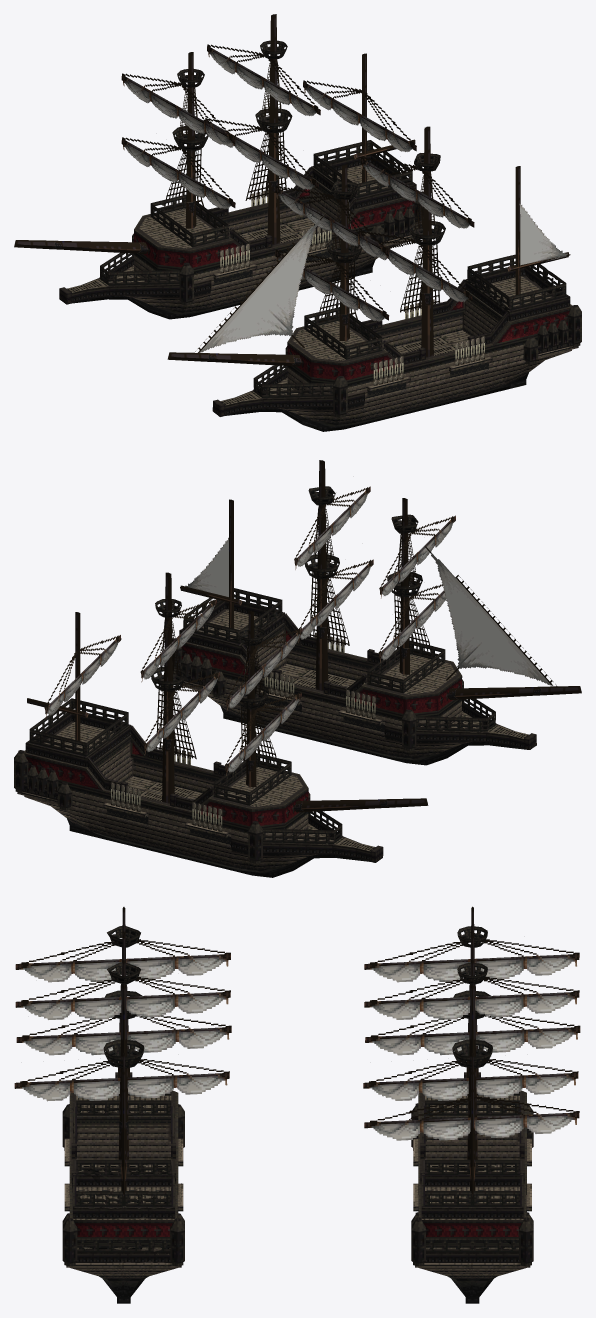
The model's file is ObjMD_Ship_A_01.FBX.
3 renders of one model, top to bottom at view 1: azimuth 30°, elevation 25°; view 2: azimuth 150°, elevation 25°; view 3: azimuth 270°, elevation 25°, orthographic. The views are drawn at different scales.
Parts seen in each view (by area): view 1: ObjMD_Ship_A_03, ObjMD_Ship_A_01; view 2: ObjMD_Ship_A_03, ObjMD_Ship_A_01; view 3: ObjMD_Ship_A_01, ObjMD_Ship_A_03.
Boxes of the visible parts, x1=… form: ObjMD_Ship_A_03: x1=167, y1=126, x2=581, y2=431; ObjMD_Ship_A_01: x1=14, y1=14, x2=423, y2=319; ObjMD_Ship_A_03: x1=172, y1=460, x2=581, y2=765; ObjMD_Ship_A_01: x1=14, y1=572, x2=428, y2=877; ObjMD_Ship_A_01: x1=363, y1=906, x2=580, y2=1303; ObjMD_Ship_A_03: x1=14, y1=907, x2=231, y2=1303.
Size of the model in its own units: 1943 by 1288 by 2093.
